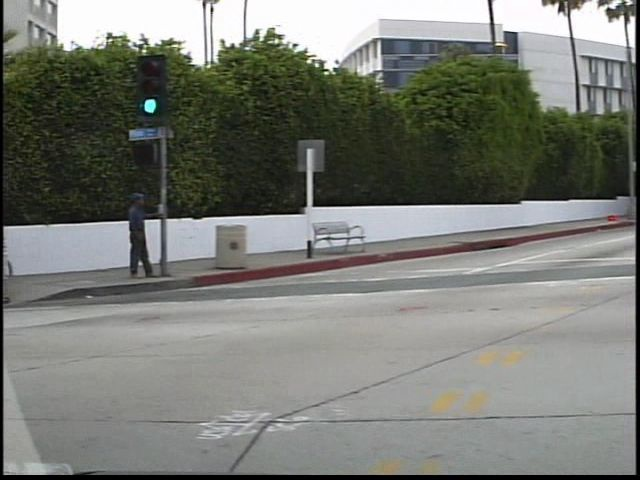person: (118, 186, 158, 283)
